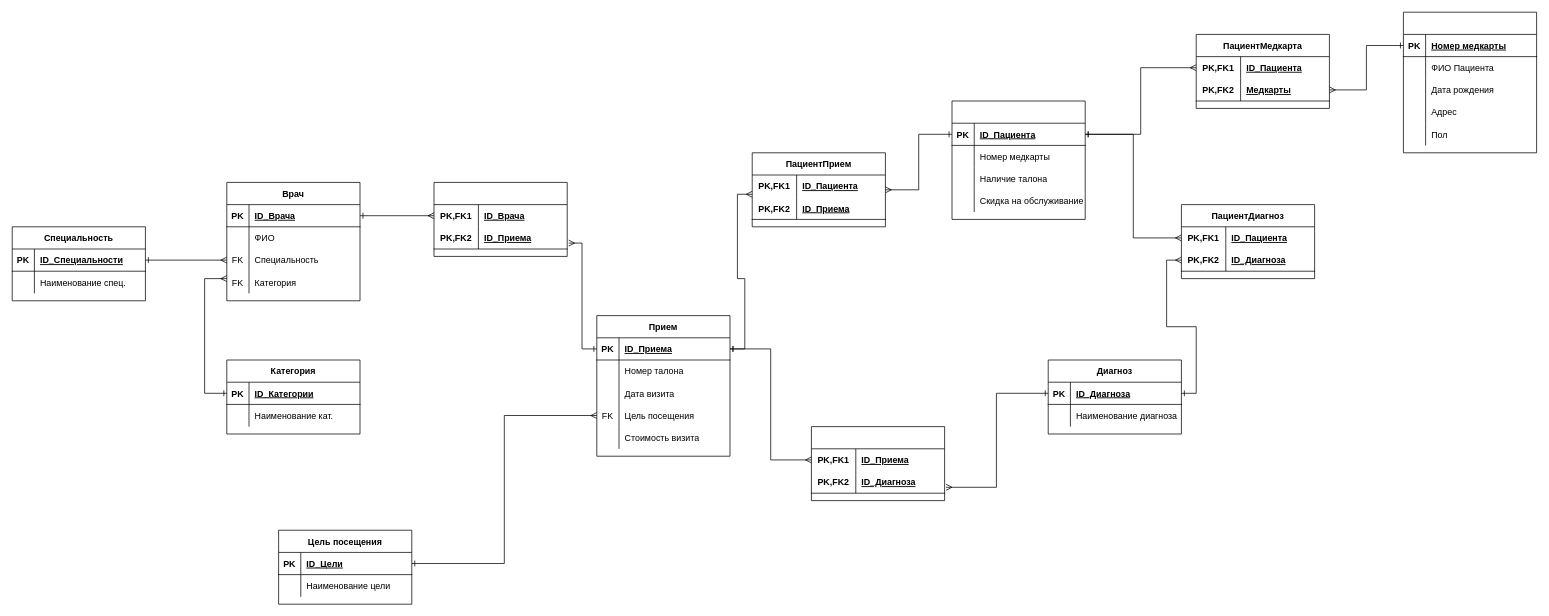
The diagram is 1549 pixels wide and 616 high, and some of its shapes have lost their labels. The shapes that lost their labels are listed below. From the top down, each one's box as (x1, y1, x2, y2) in pixels, then its label:
(1403, 11, 1537, 153): Медкарта
(951, 100, 1085, 219): Пациенты
(433, 182, 567, 256): ВрачПрием
(811, 426, 945, 501): ПриемДиагноз
